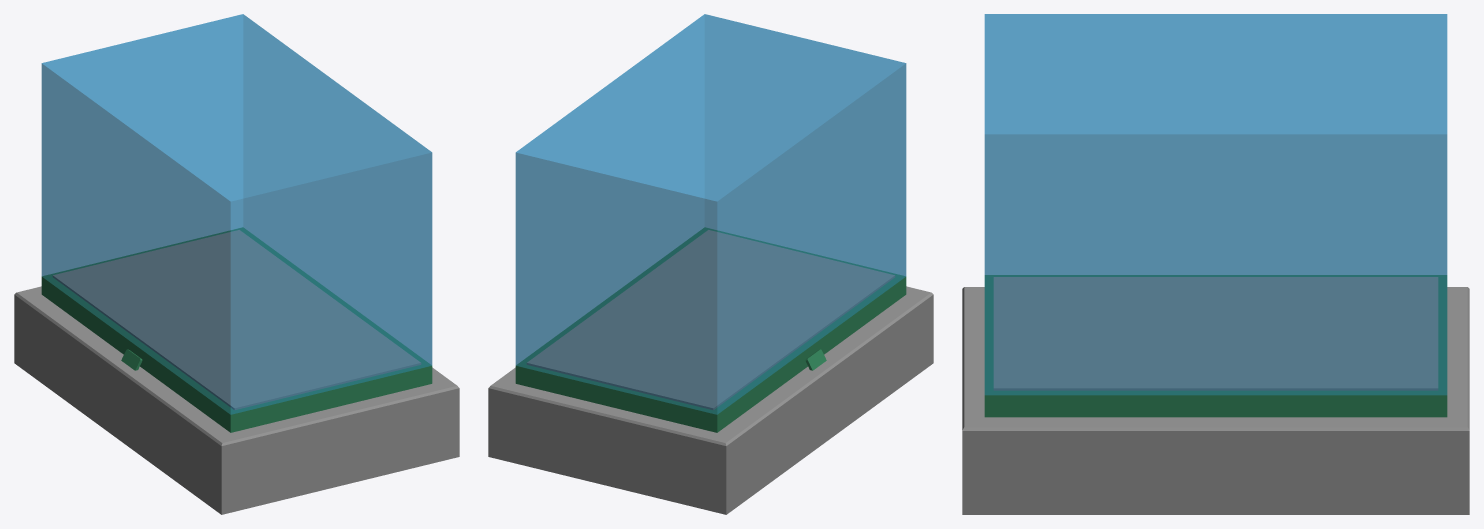
File: Stand1.FBX
The picture shows the model from 3 angles, left to right: view 1: azimuth 30°, elevation 25°; view 2: azimuth 150°, elevation 25°; view 3: azimuth 270°, elevation 25°; orthographic projection. The views are drawn at different scales.
Visible parts, largest first — view 1: Stand1; view 2: Stand1; view 3: Stand1.
Part boxes in pixels (x1,y1,x2,y2): Stand1: (14, 14, 459, 514); Stand1: (488, 14, 933, 514); Stand1: (962, 14, 1469, 514).
Bounding box in the file's own units: 228 × 277 × 344.
